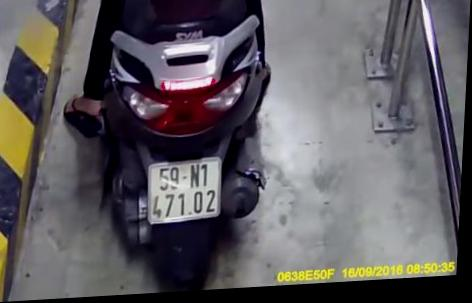License_Plate: (139, 154, 233, 227)
